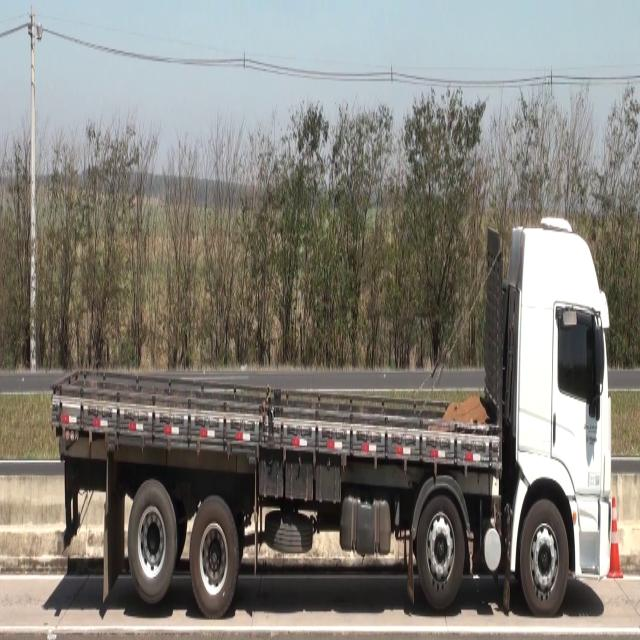-axle: (190, 495, 240, 618), (520, 498, 570, 614), (128, 478, 177, 596), (417, 492, 465, 602)
